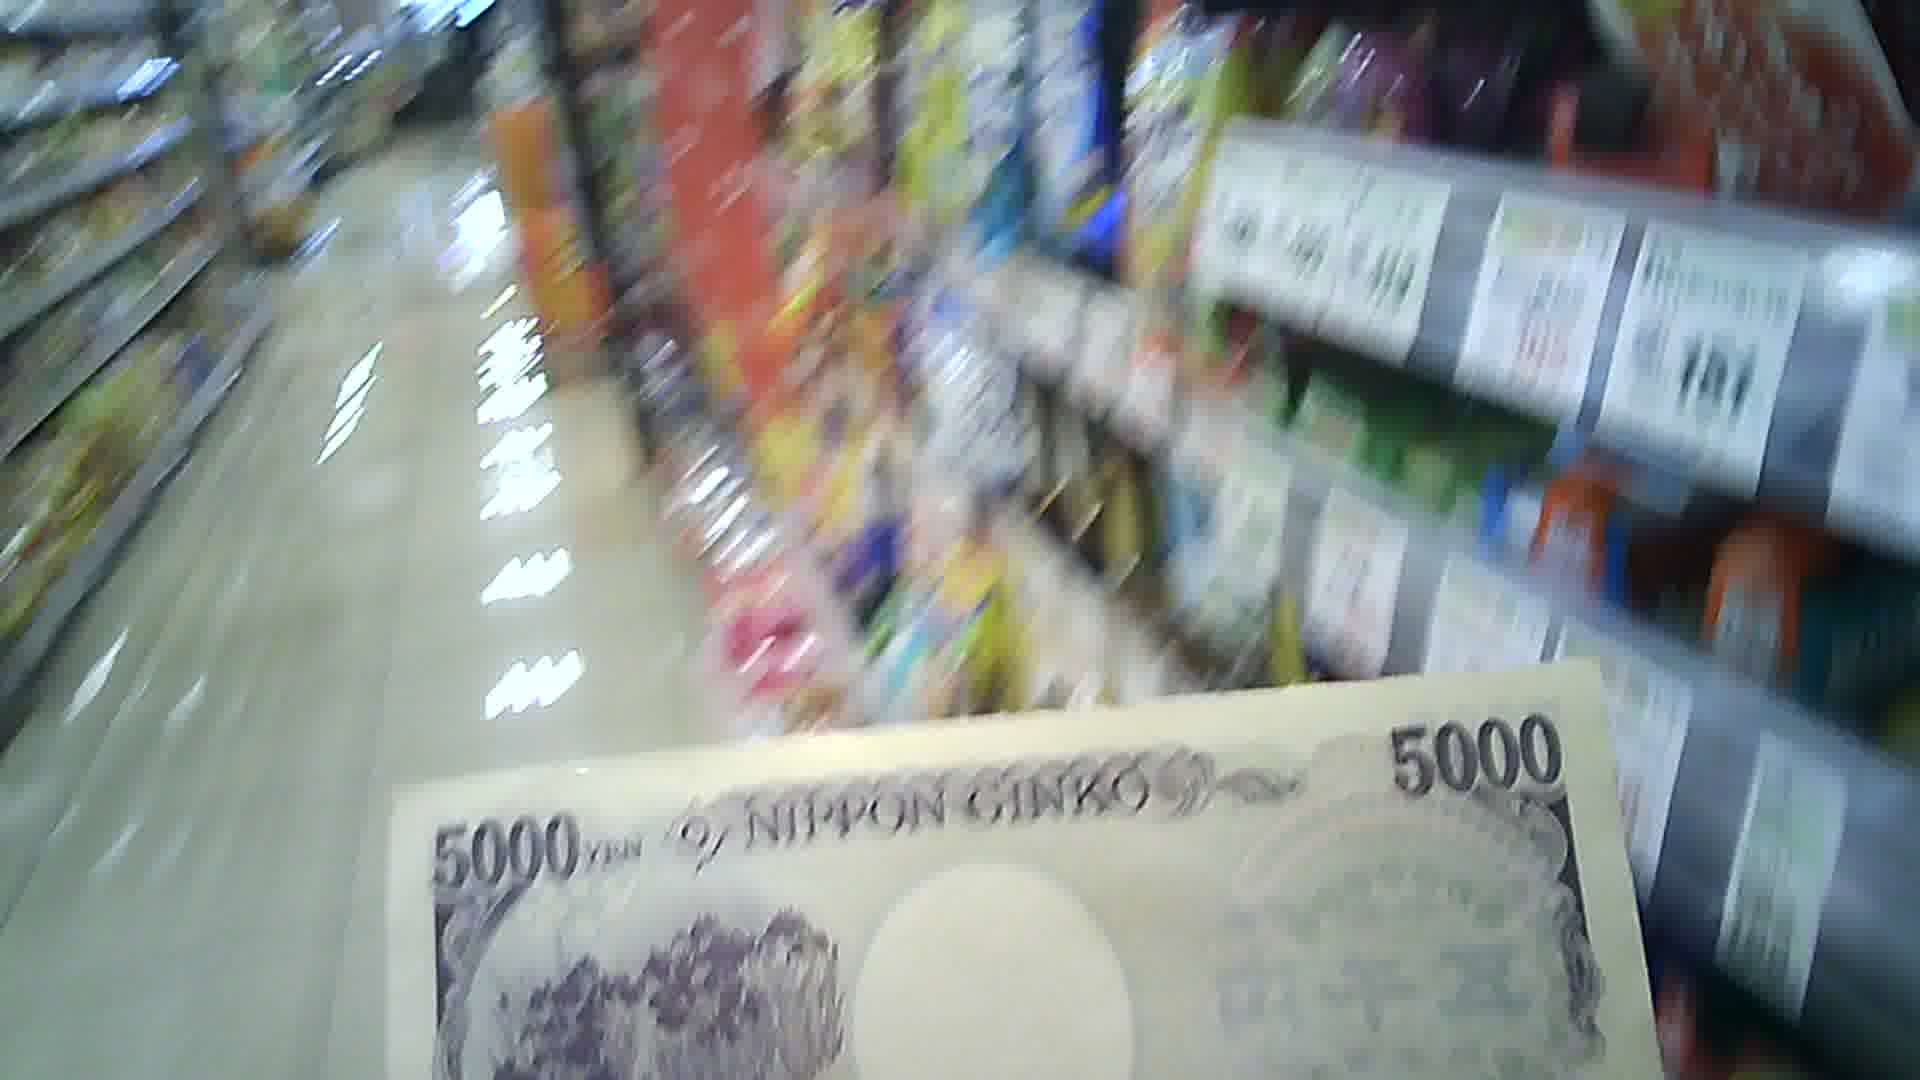5,000 Yen: (396, 684, 1665, 1079)
